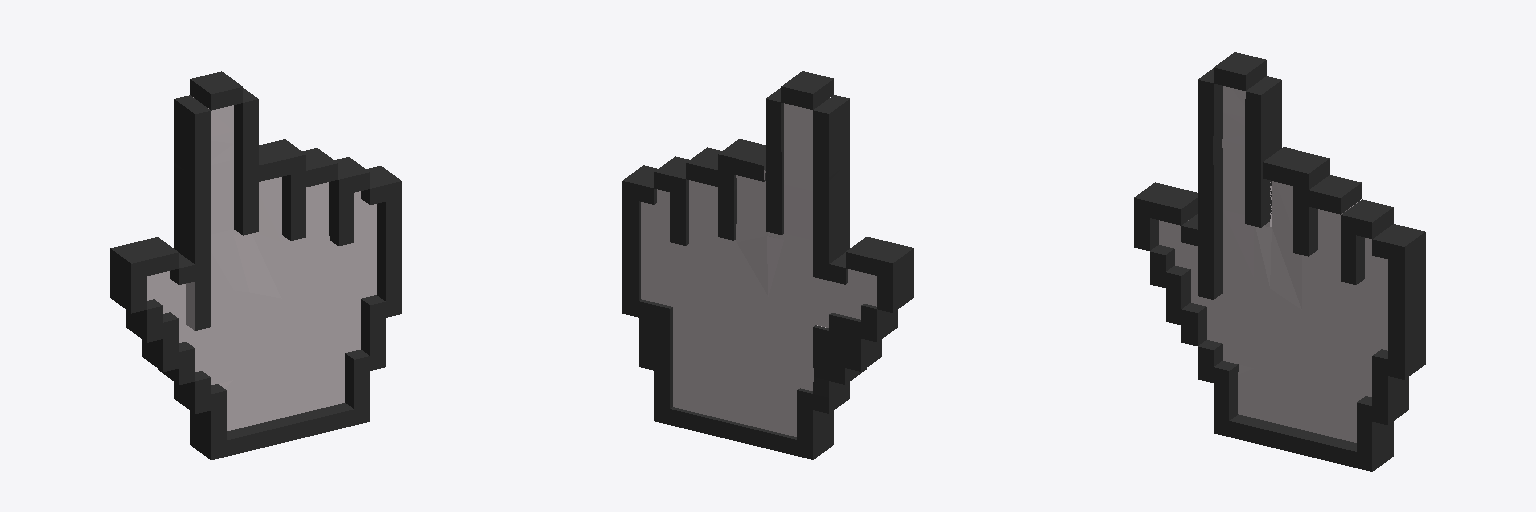
The model's file is webhand.obj.
3 views of the same model, side by side, from view 1: azimuth 30°, elevation 25°; view 2: azimuth 150°, elevation 25°; view 3: azimuth 330°, elevation 25° (orthographic).
Visible parts, largest first — view 1: outside_Plane.013; view 2: outside_Plane.013; view 3: outside_Plane.013.
Part boxes in pixels (x1,y1,x2,y2): outside_Plane.013: (110, 71, 401, 459); outside_Plane.013: (622, 71, 913, 459); outside_Plane.013: (1134, 52, 1425, 471).
Bounding box in the file's own units: 2.71 × 3.5 × 0.3754.